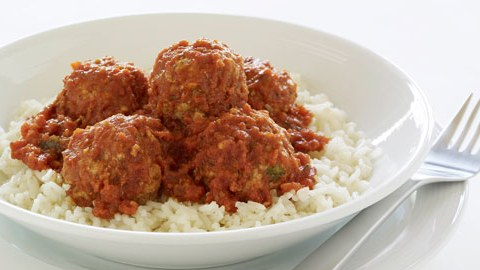meatballs: (66, 55, 286, 179)
plain rice: (149, 200, 298, 226)
